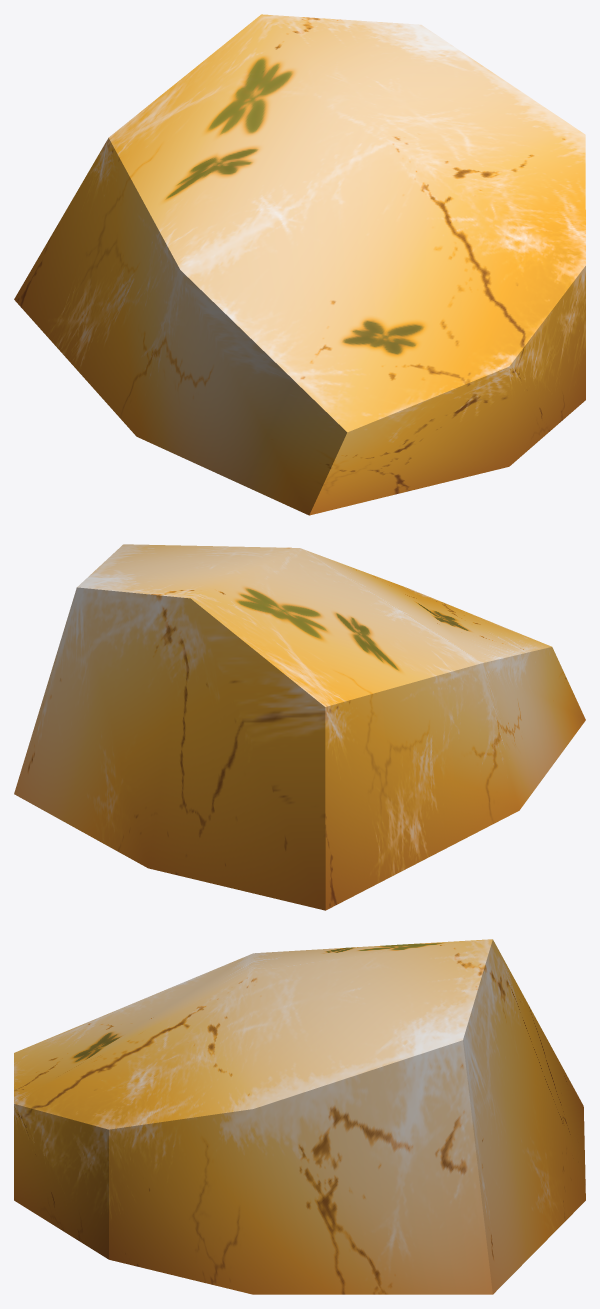
File: Rock001.fbx
3 views of the same model, one above another, from view 1: azimuth 30°, elevation 25°; view 2: azimuth 150°, elevation 25°; view 3: azimuth 270°, elevation 25° (orthographic). The views are drawn at different scales.
Parts seen in each view (by area): view 1: Rock001; view 2: Rock001; view 3: Rock001.
Boxes of the visible parts, x1,y1,x2,y2 form: Rock001: (14,14,585,515); Rock001: (14,544,585,910); Rock001: (14,939,585,1294).
Size of the model in its own units: 4.87 by 2.8 by 5.56.
